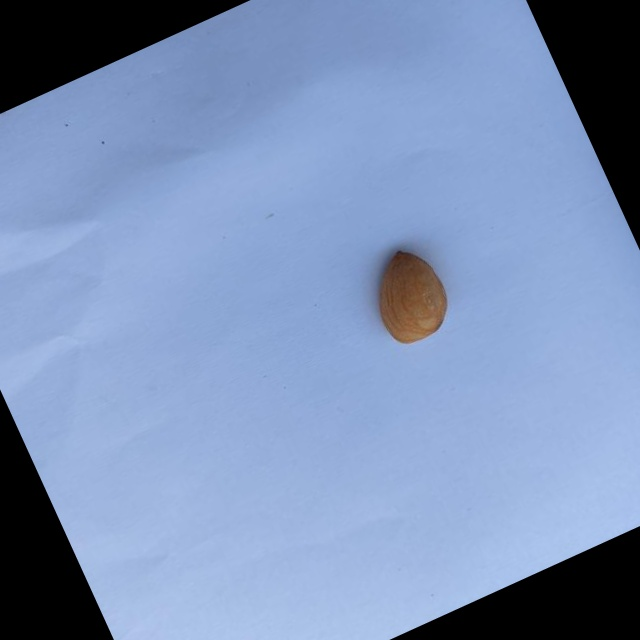grade2: (351, 236, 464, 357)
